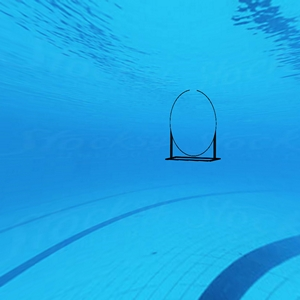circle: (162, 88, 227, 169)
